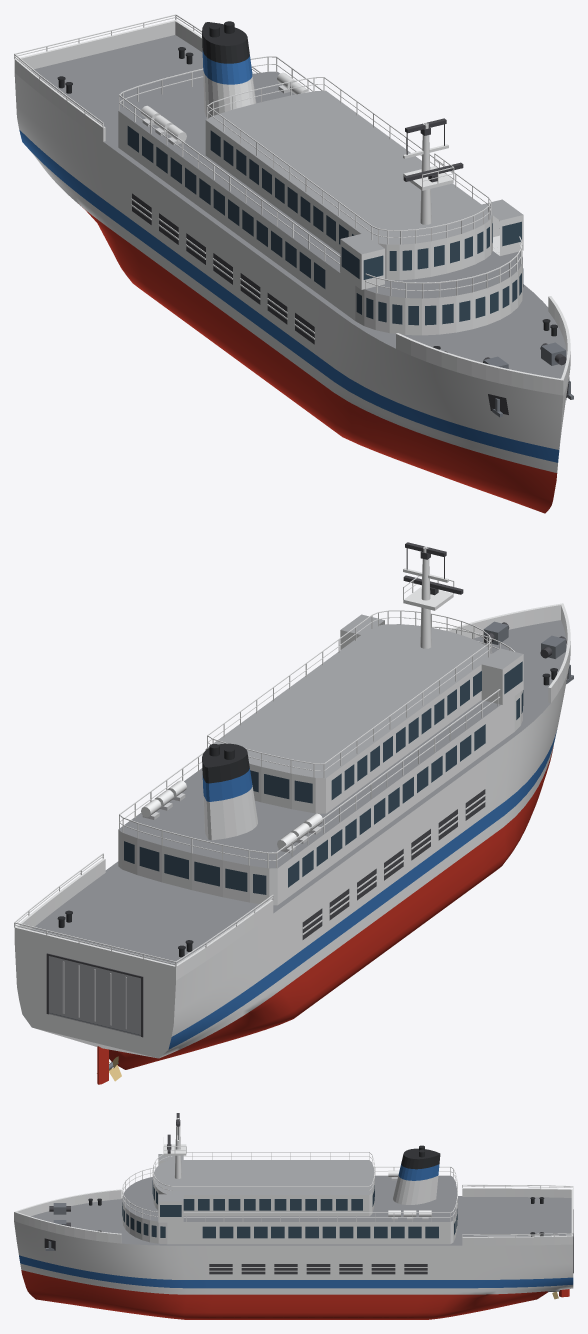
Rendered from 0_close.fbx.
3 views of the same model, one above another, from view 1: azimuth 30°, elevation 25°; view 2: azimuth 150°, elevation 25°; view 3: azimuth 270°, elevation 25° (orthographic). The views are drawn at different scales.
Visible parts, largest first — view 1: 0_close; view 2: 0_close; view 3: 0_close.
Boxes of the visible parts, x1,y1,x2,y2 form: 0_close: (14,14,573,513); 0_close: (14,542,573,1084); 0_close: (14,1113,573,1319).
Bounding box in the file's own units: 13.14 × 22.1 × 62.07.
